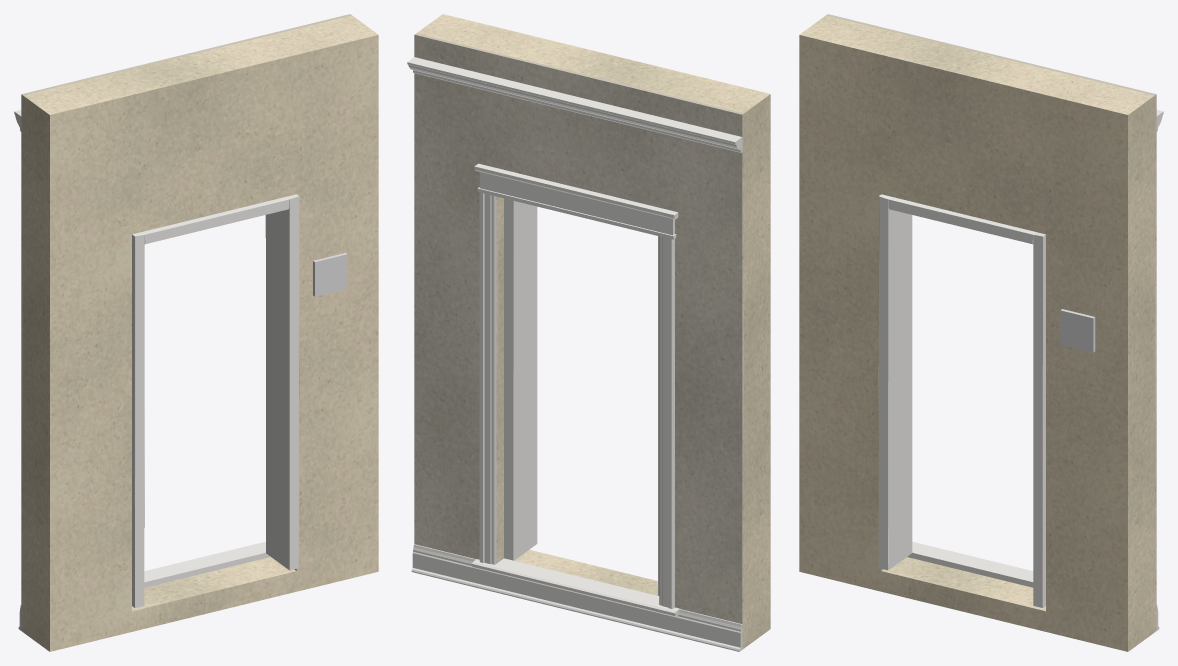
File: wall_door.glb
3 renders of one model, left to right at view 1: azimuth 30°, elevation 25°; view 2: azimuth 150°, elevation 25°; view 3: azimuth 330°, elevation 25°, orthographic.
Visible parts, largest first — view 1: wall_door_stucco, wall_door_frame, wall_door_plaster, molduras, wall_door_metal; view 2: wall_door_plaster, molduras, wall_door_stucco, wall_door_frame; view 3: wall_door_stucco, wall_door_frame, wall_door_plaster, molduras, wall_door_metal.
Boxes of the visible parts, x1,y1,x2,y2 form: wall_door_stucco: (23,15,378,651); wall_door_frame: (132,194,299,607); wall_door_plaster: (21,14,351,631); molduras: (14,110,270,630); wall_door_metal: (313,253,347,296); wall_door_plaster: (414,33,743,649); molduras: (407,57,742,651); wall_door_stucco: (416,14,770,648); wall_door_frame: (504,198,659,595); wall_door_stucco: (799,15,1154,651); wall_door_frame: (878,194,1045,607); wall_door_plaster: (826,14,1156,631); molduras: (907,110,1163,630); wall_door_metal: (1060,309,1095,352).
Bounding box in the file's own units: 2 × 3.12 × 0.405.
Materials: 5 (2 with a texture image).
